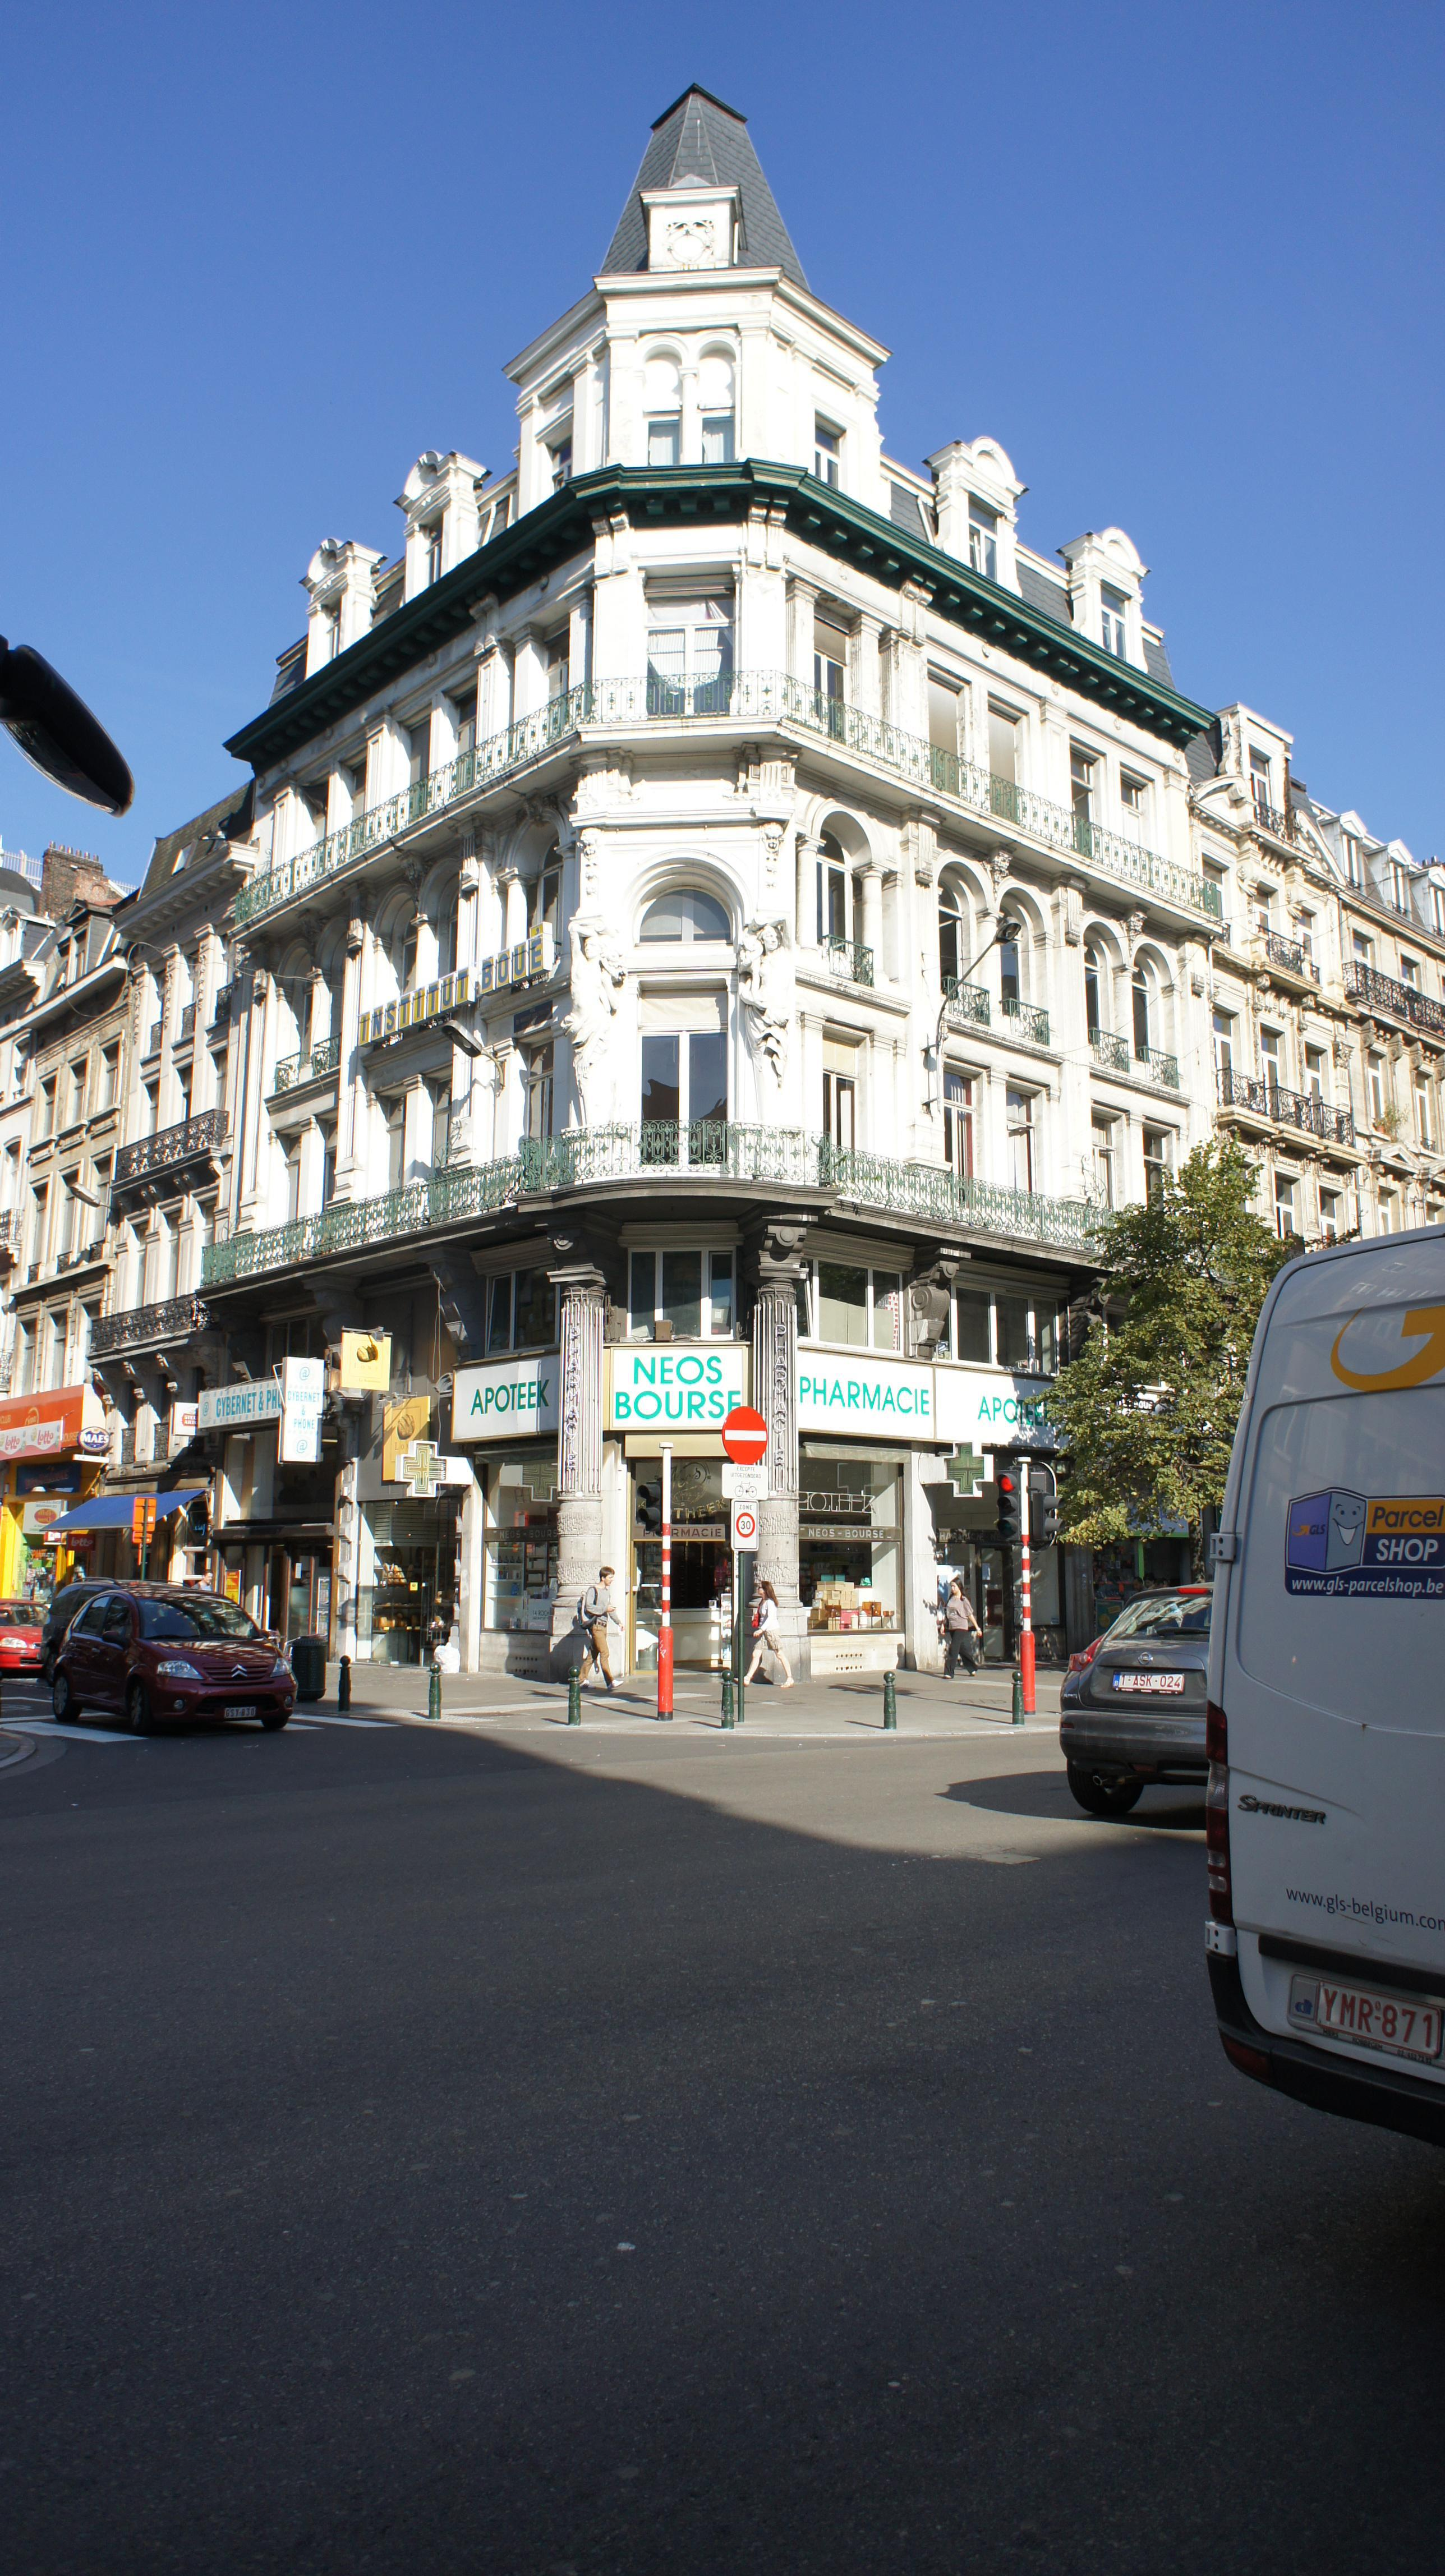affected: (76, 67, 1282, 1838)
